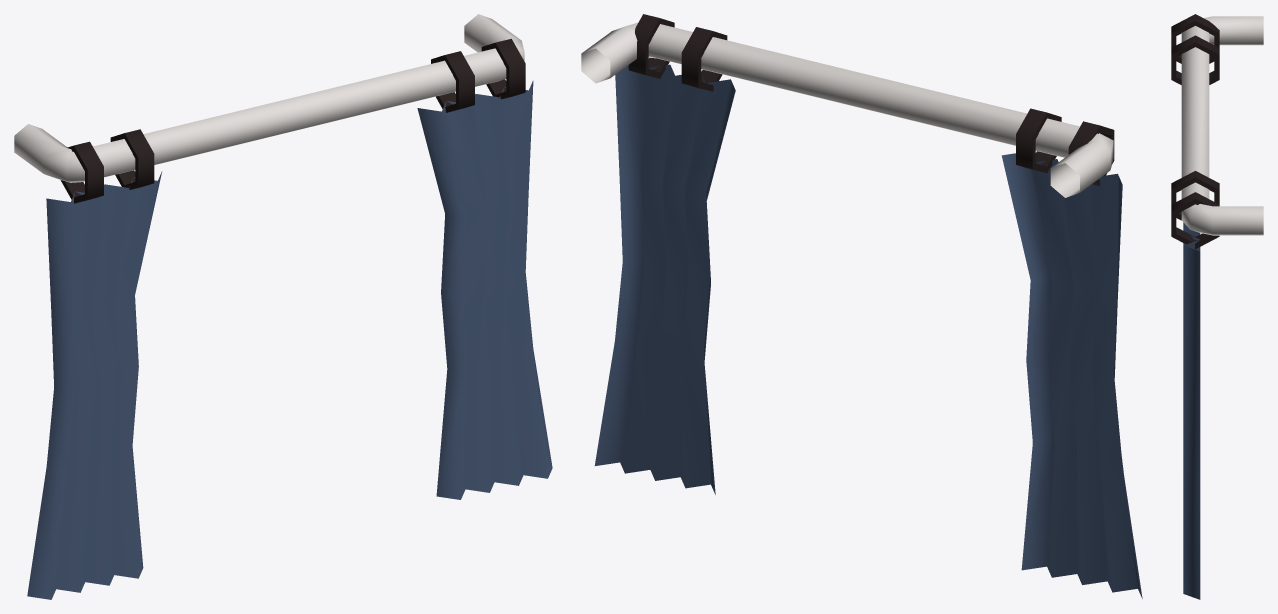
The model's file is 55_prop_curtain.FBX.
The picture shows the model from 3 angles, left to right: view 1: azimuth 30°, elevation 25°; view 2: azimuth 150°, elevation 25°; view 3: azimuth 270°, elevation 25°; orthographic projection. The views are drawn at different scales.
Visible parts, largest first — view 1: prop_curtain; view 2: prop_curtain; view 3: prop_curtain.
Part boxes in pixels (x1,y1,x2,y2): prop_curtain: (14,14,552,599); prop_curtain: (581,14,1142,598); prop_curtain: (1171,14,1263,599).
Size of the model in its own units: 122 by 97.85 by 21.39.
